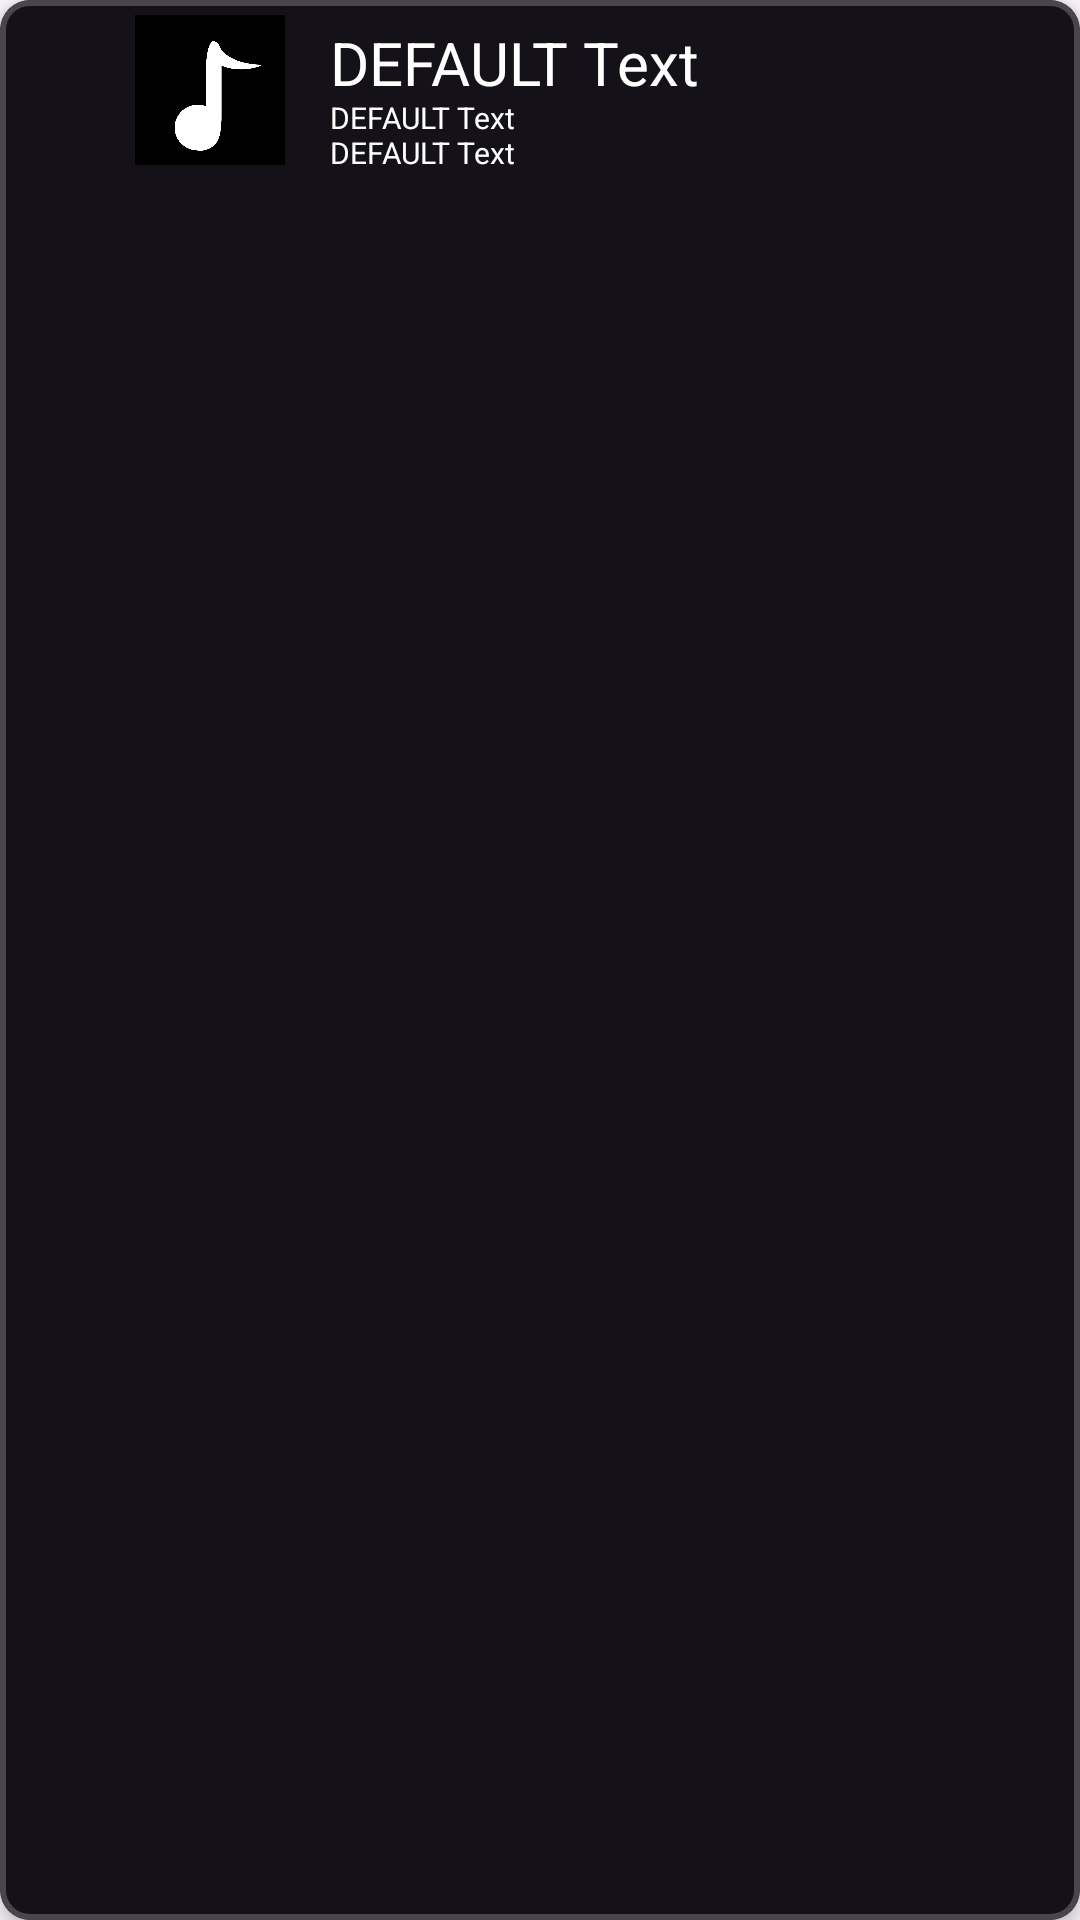

Where to tap for icons on this 1080×1920 app screen, as point (x, y):
note: point (210, 90)
